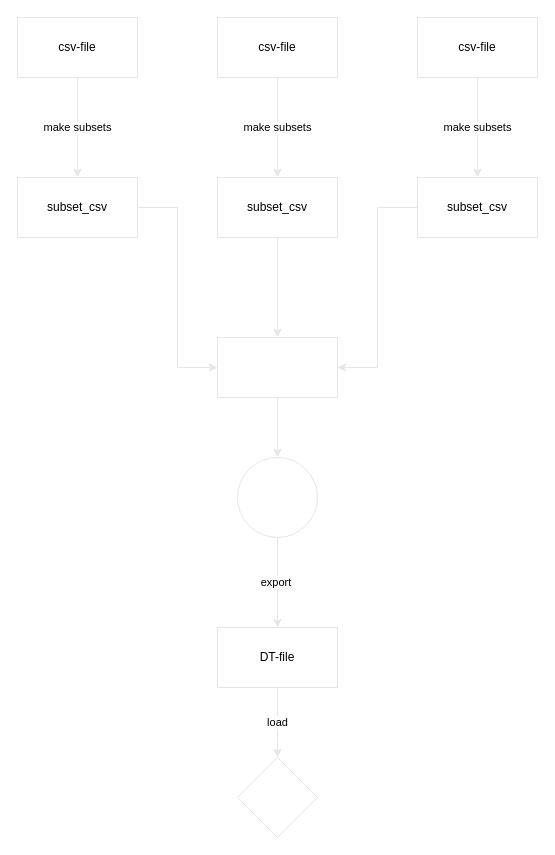
Image size: 555x855. Some labels were removed from this diagram. Each missing label, with the box of its shape:
Decision Tree: (236, 456, 318, 538)
Porter: (236, 756, 318, 838)
Train- /Testdataset: (216, 336, 338, 398)
